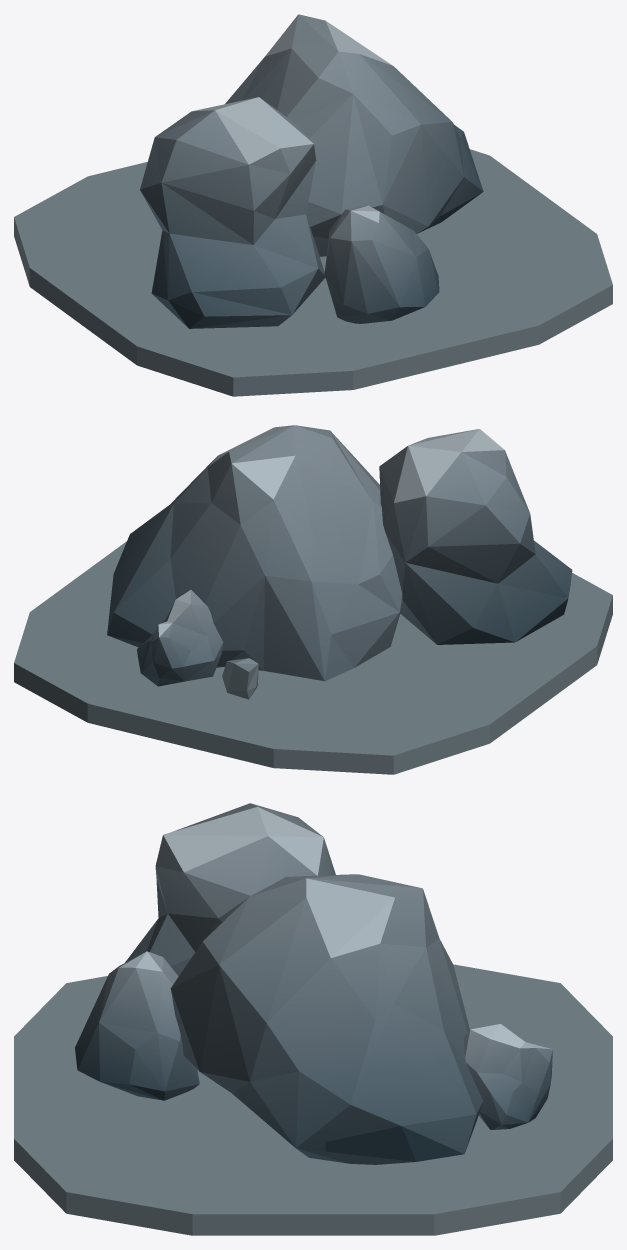
Rendered from rocks.fbx.
3 views of the same model, one above another, from view 1: azimuth 30°, elevation 25°; view 2: azimuth 150°, elevation 25°; view 3: azimuth 270°, elevation 25° (orthographic). The views are drawn at different scales.
Visible parts, largest first — view 1: Plane, rock.002, rock.003, rock.004; view 2: Plane, rock.003, rock.002, rock.005, rock; view 3: Plane, rock.003, rock.002, rock.004, rock.005.
Part boxes in pixels (box(x1,y1,x2,y2)): Plane: box(14, 149, 612, 396); rock.002: box(140, 97, 325, 328); rock.003: box(225, 14, 483, 256); rock.004: box(324, 205, 439, 323); Plane: box(14, 541, 612, 774); rock.003: box(107, 425, 402, 681); rock.002: box(379, 429, 572, 644); rock.005: box(137, 590, 223, 686); rock: box(222, 658, 258, 699); Plane: box(14, 964, 612, 1235); rock.003: box(170, 874, 482, 1164); rock.002: box(125, 803, 335, 976); rock.004: box(75, 951, 199, 1100); rock.005: box(463, 1024, 552, 1129).
Bounding box in the file's own units: 200 × 89.49 × 200.
